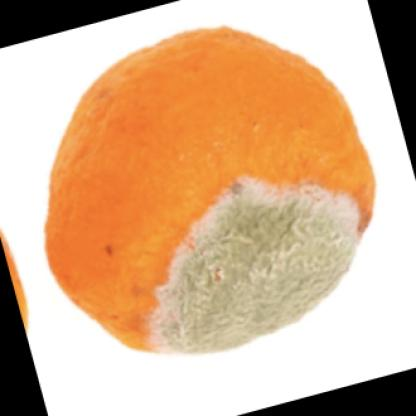rotten: (44, 27, 375, 358)
